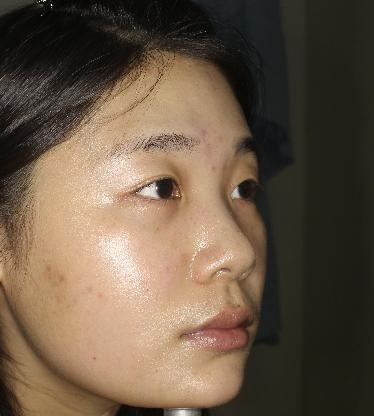acne scar: (54, 270, 72, 287), (40, 261, 56, 278)
